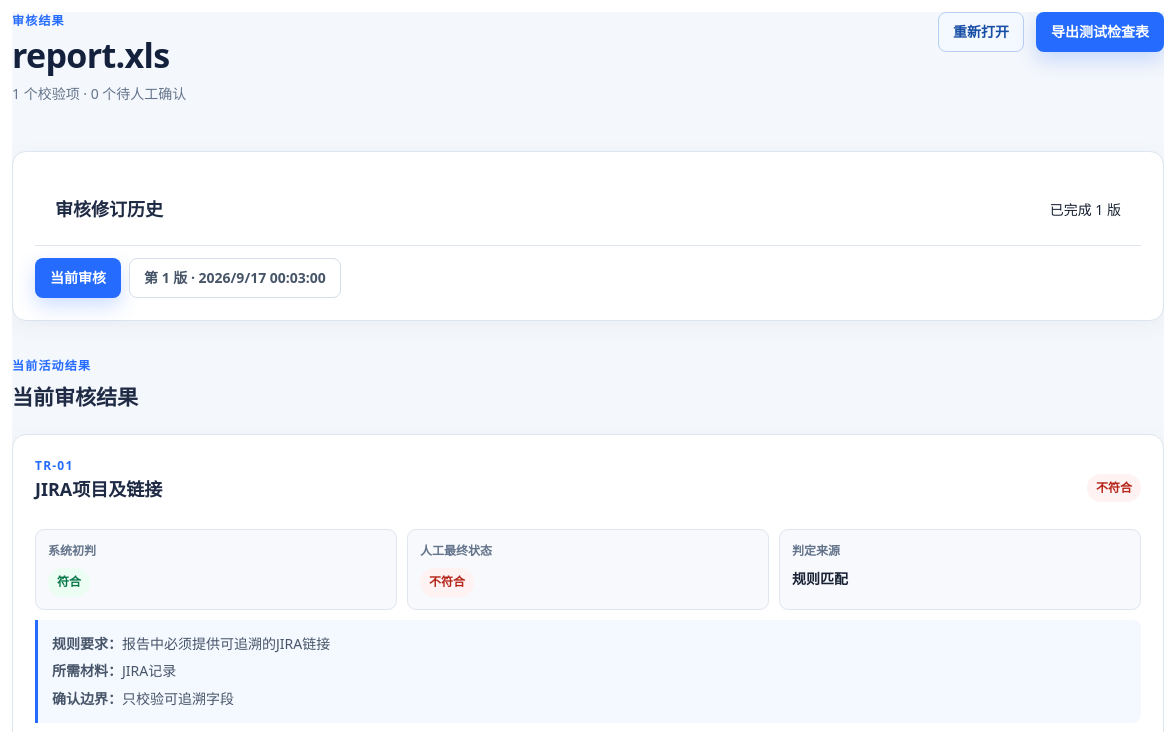
review result transparency and history › opens a completed revision in read-only mode
This screenshot has width=1176, height=732.
Click the button "第 1 版 · 2026/9/17 00:03:00": {"x": 235, "y": 278} x1=129 y1=258 x2=341 y2=298
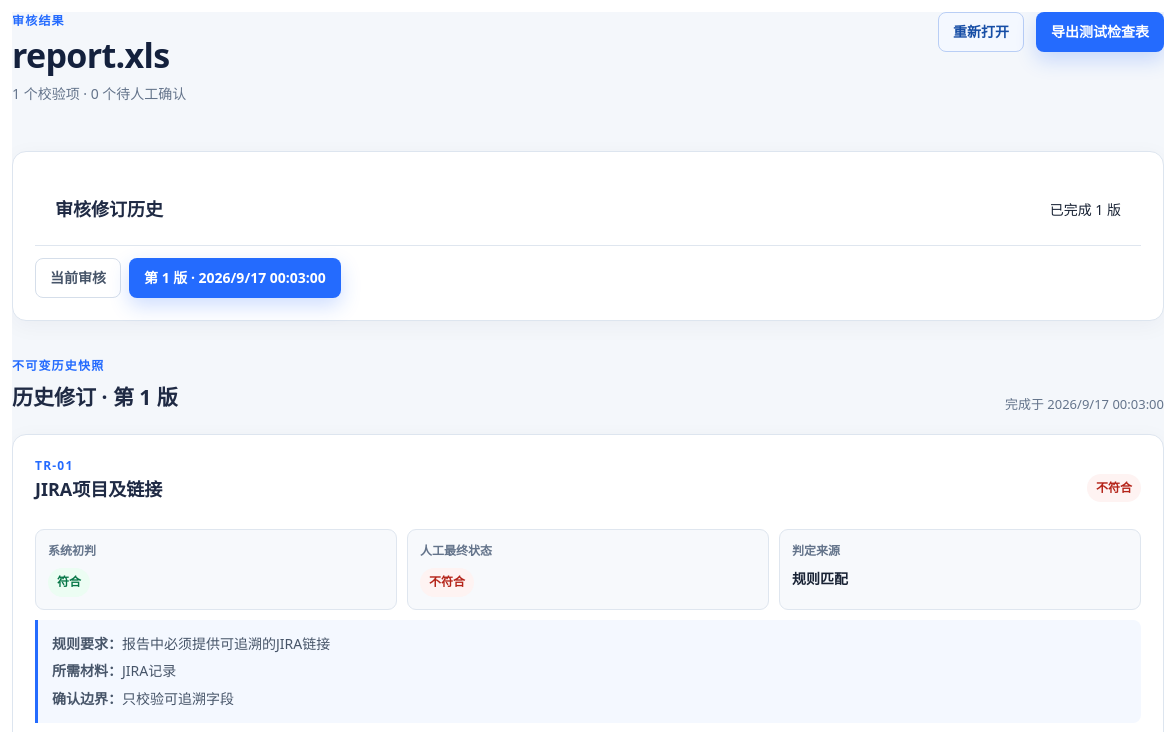
Result: the heading "历史修订 · 第 1 版" is shown at x1=12 y1=381 x2=178 y2=414
